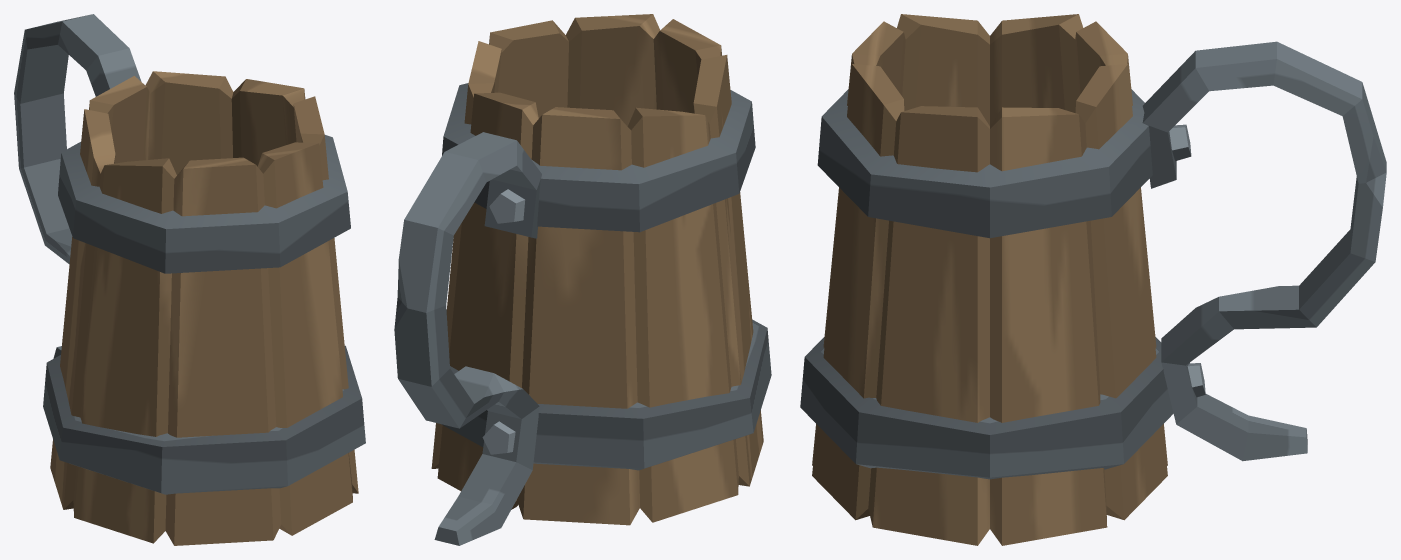
The model's file is SM_Prop_Cup_01.fbx.
The picture shows the model from 3 angles, left to right: view 1: azimuth 30°, elevation 25°; view 2: azimuth 150°, elevation 25°; view 3: azimuth 270°, elevation 25°; orthographic projection. The views are drawn at different scales.
Parts seen in each view (by area): view 1: SM_Prop_Cup_01; view 2: SM_Prop_Cup_01; view 3: SM_Prop_Cup_01.
Part boxes in pixels (left/top/right/bottom): SM_Prop_Cup_01: left=14, top=14, right=365, bottom=545; SM_Prop_Cup_01: left=394, top=14, right=771, bottom=545; SM_Prop_Cup_01: left=800, top=14, right=1386, bottom=545.
Bounding box in the file's own units: 15.9 × 19.54 × 24.57.
